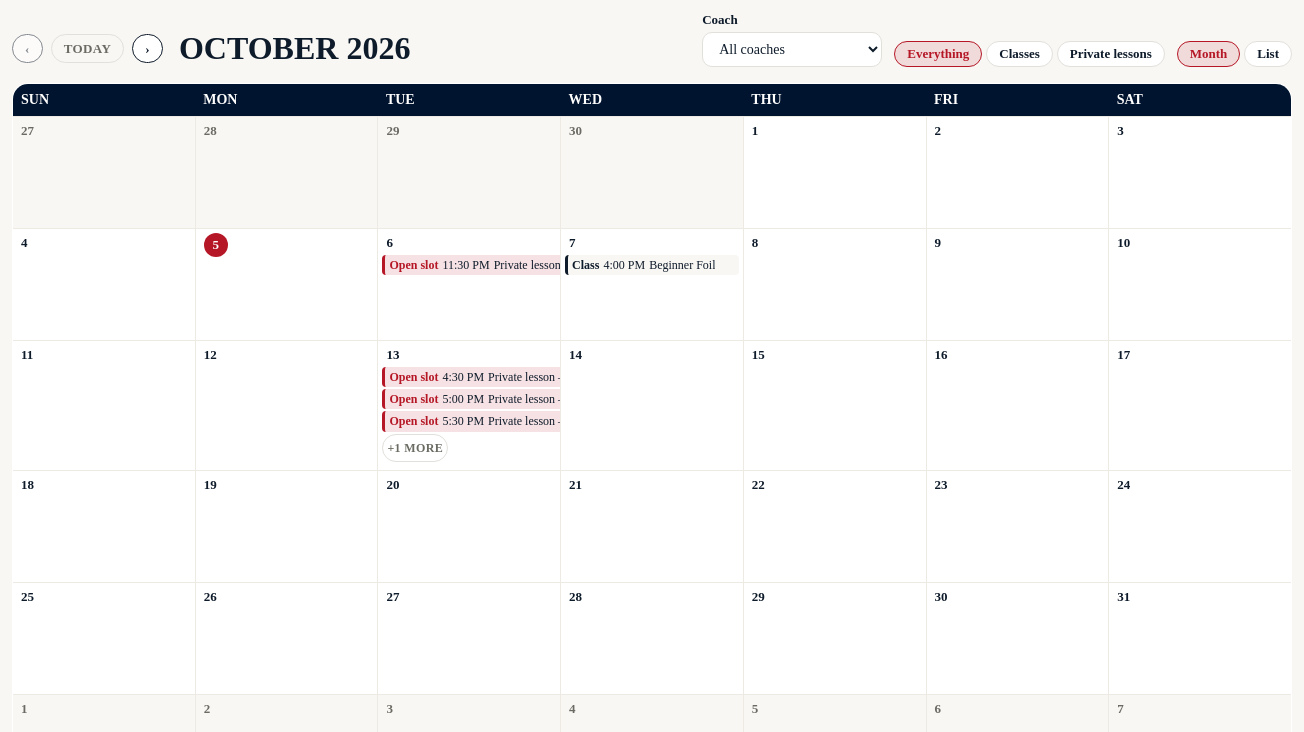
Test: CalendarView › switches between the month grid and the list, and the list shows times, details and the server price
Click the radio button labelled "List". click: (1268,54)
box: left=1244, top=41, right=1292, bottom=67
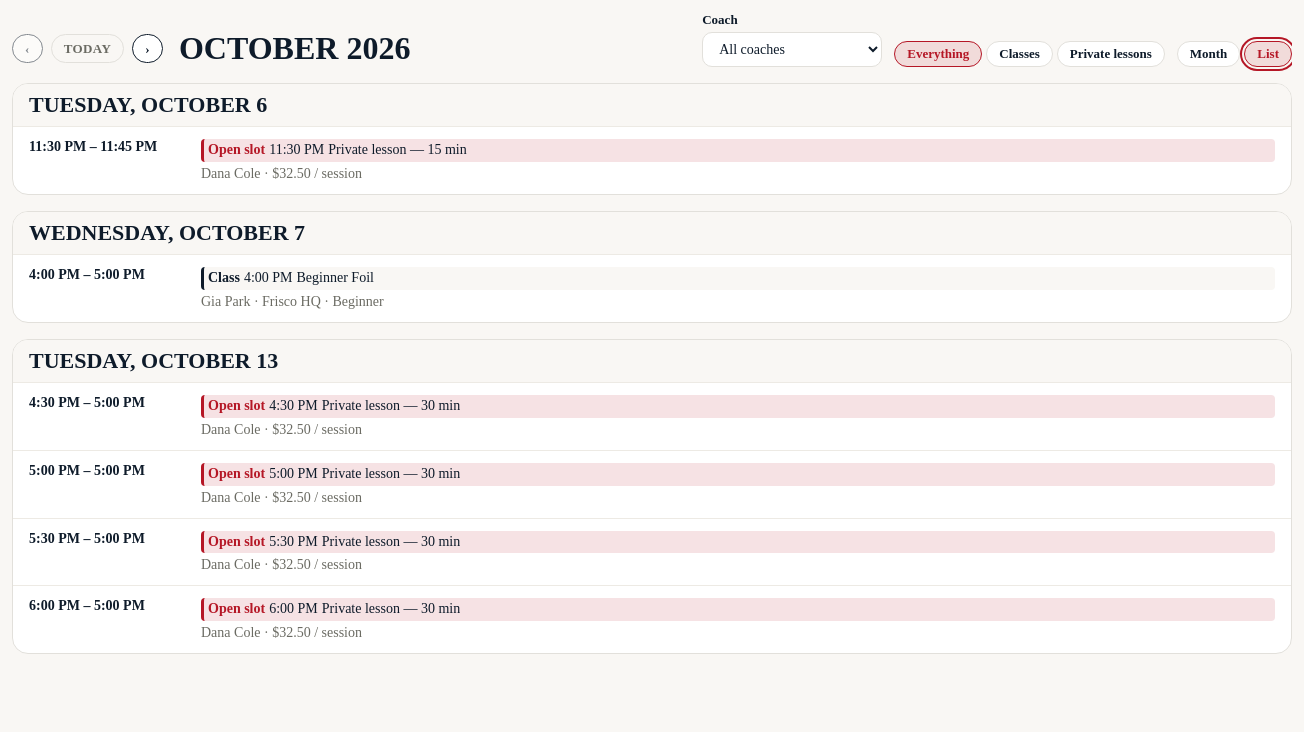
expect the heading "Tuesday, October 6" is shown: met, box left=13, top=84, right=1291, bottom=127
expect the text "11:30 PM – 11:45 PM" is shown: met, box left=29, top=139, right=157, bottom=154
expect the text "Gia Park · Frisco HQ · Beginner" is shown: met, box left=201, top=294, right=384, bottom=309
